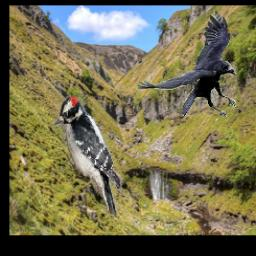Crow: (138, 11, 236, 118)
Woodpecker: (51, 97, 121, 220)
